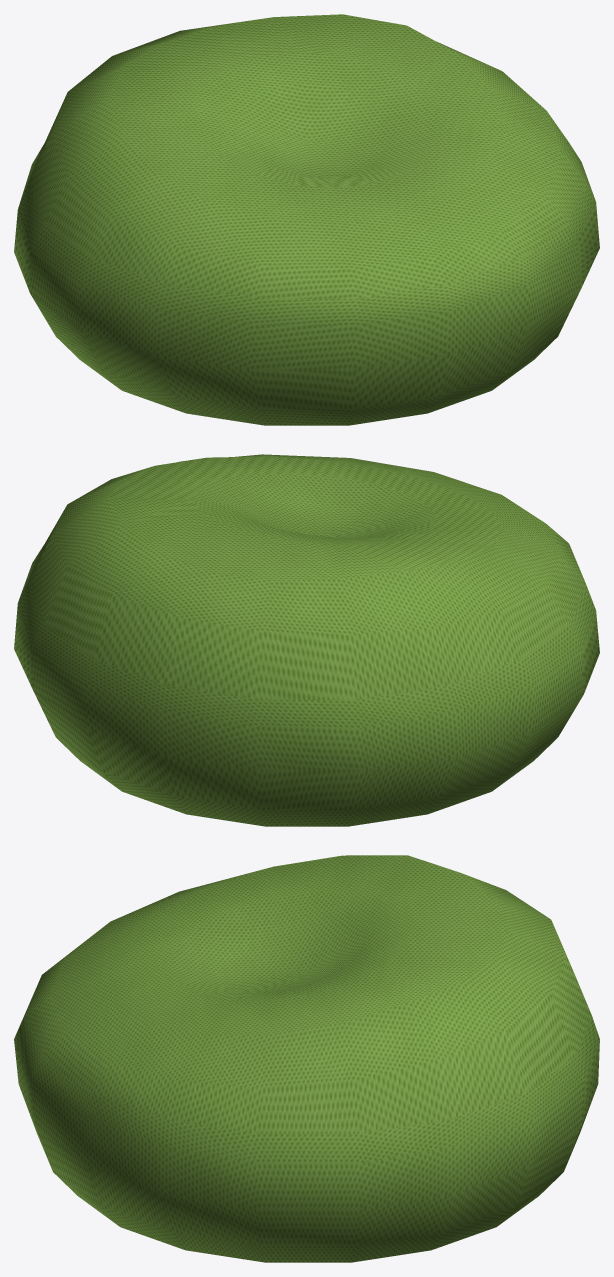
Rendered from Bean_bag_07.FBX.
The picture shows the model from 3 angles, top to bottom: view 1: azimuth 30°, elevation 25°; view 2: azimuth 150°, elevation 25°; view 3: azimuth 270°, elevation 25°; orthographic projection.
Parts seen in each view (by area): view 1: Bean_bag_Chair; view 2: Bean_bag_Chair; view 3: Bean_bag_Chair.
Part boxes in pixels (x1,y1,x2,y2): Bean_bag_Chair: (14, 14, 599, 425); Bean_bag_Chair: (14, 454, 599, 826); Bean_bag_Chair: (14, 855, 599, 1262).
Size of the model in its own units: 194 by 84.31 by 191.
